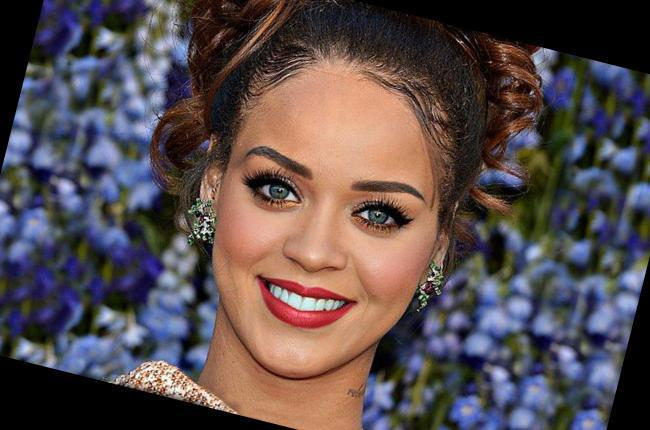Sober: (228, 92, 427, 361)
